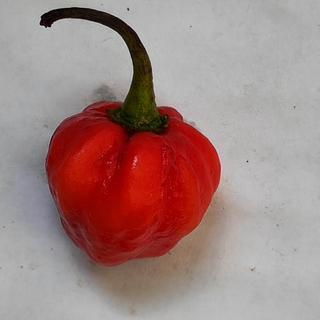Grade-B: (41, 92, 225, 269)
